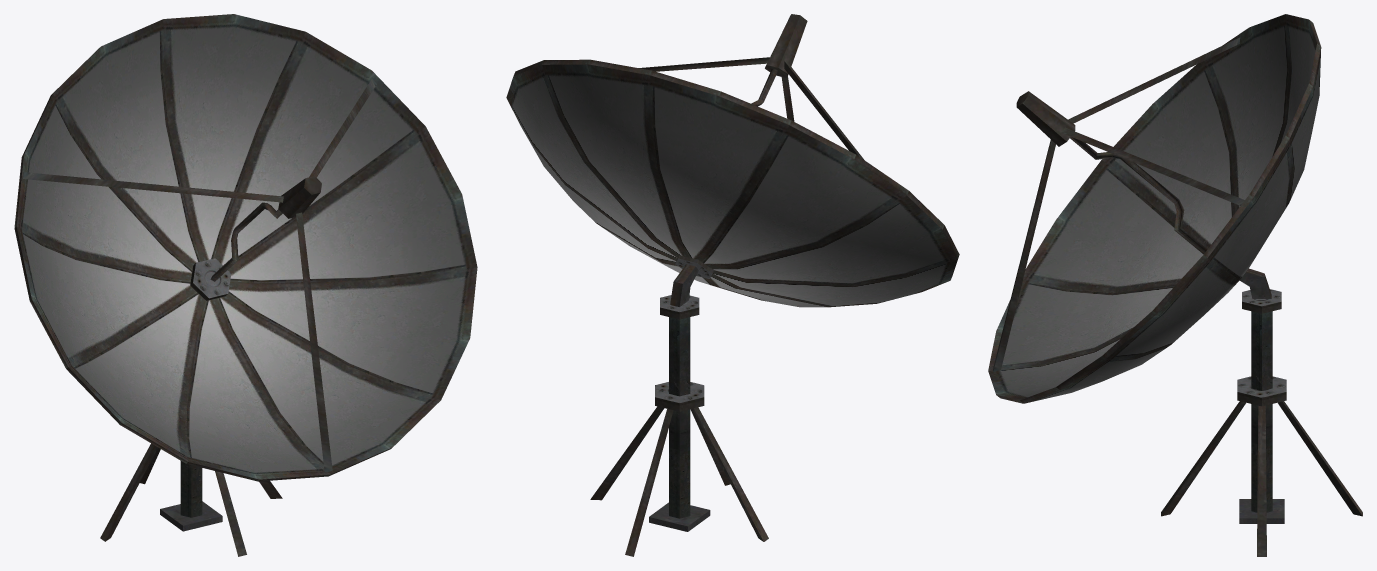
Rendered from satellitedish_lg.fbx.
3 renders of one model, left to right at view 1: azimuth 30°, elevation 25°; view 2: azimuth 150°, elevation 25°; view 3: azimuth 270°, elevation 25°, orthographic. The views are drawn at different scales.
Parts seen in each view (by area): view 1: mesh_7, mesh_8, mesh_1, mesh_11, mesh_0, mesh_9, mesh_3, mesh_4, mesh_10; view 2: mesh_7, mesh_0, mesh_1, mesh_8, mesh_3, mesh_9, mesh_5, mesh_4, mesh_2, mesh_6; view 3: mesh_7, mesh_8, mesh_0, mesh_3, mesh_9, mesh_1, mesh_10, mesh_5, mesh_4, mesh_6, mesh_2.
Part boxes in pixels (x1,y1,x2,y2): mesh_7: (14, 14, 477, 481); mesh_8: (23, 79, 376, 472); mesh_1: (100, 443, 282, 541); mesh_11: (190, 258, 231, 300); mesh_0: (180, 461, 202, 517); mesh_9: (278, 176, 321, 218); mesh_3: (140, 447, 246, 556); mesh_4: (160, 501, 222, 531); mesh_10: (210, 202, 282, 281); mesh_7: (506, 59, 959, 307); mesh_0: (669, 317, 690, 518); mesh_1: (590, 406, 768, 541); mesh_8: (638, 57, 864, 160); mesh_3: (625, 409, 730, 556); mesh_9: (765, 14, 807, 77); mesh_5: (655, 382, 704, 411); mesh_4: (649, 502, 710, 531); mesh_2: (670, 264, 698, 306); mesh_6: (660, 295, 699, 319); mesh_7: (988, 14, 1321, 403); mesh_8: (993, 37, 1244, 371); mesh_0: (1251, 311, 1272, 512); mesh_3: (1161, 401, 1362, 516); mesh_9: (1016, 91, 1075, 146); mesh_1: (1257, 405, 1266, 556); mesh_10: (1070, 137, 1207, 254); mesh_5: (1237, 376, 1286, 406); mesh_4: (1239, 499, 1284, 523); mesh_6: (1242, 289, 1281, 313); mesh_2: (1239, 268, 1271, 298).
Bounding box in the file's own units: 358 × 381 × 275.
Materials: 1 (1 with a texture image).
